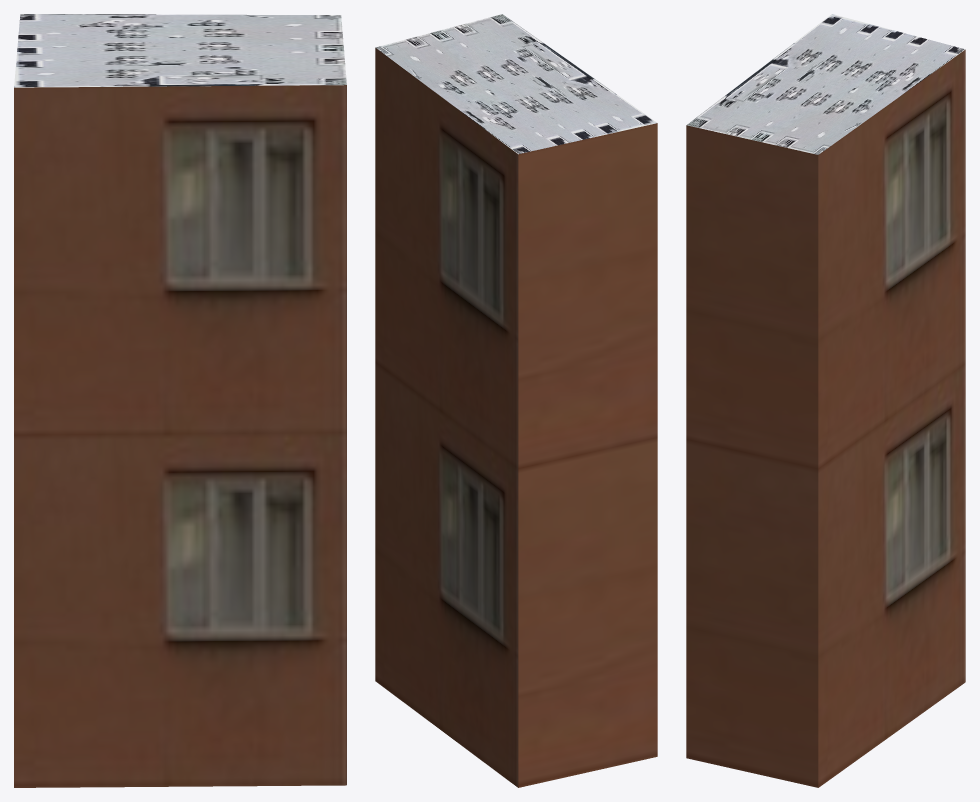
The model's file is ResTex__2680.fbx.
The picture shows the model from 3 angles, left to right: view 1: azimuth 30°, elevation 25°; view 2: azimuth 150°, elevation 25°; view 3: azimuth 270°, elevation 25°; orthographic projection. The views are drawn at different scales.
Visible parts, largest first — view 1: CityEngineMaterial_20_m, CityEngineMaterial_m; view 2: CityEngineMaterial_20_m, CityEngineMaterial_m; view 3: CityEngineMaterial_20_m, CityEngineMaterial_m.
Boxes of the visible parts, <box> form: CityEngineMaterial_20_m: <box>14,85,346,787</box>; CityEngineMaterial_m: <box>14,14,346,87</box>; CityEngineMaterial_20_m: <box>375,48,657,787</box>; CityEngineMaterial_m: <box>375,14,656,154</box>; CityEngineMaterial_20_m: <box>686,49,965,787</box>; CityEngineMaterial_m: <box>686,14,965,154</box>.
Bounding box in the file's own units: 2.87 × 6 × 2.4.
2 materials, 2 textured.
